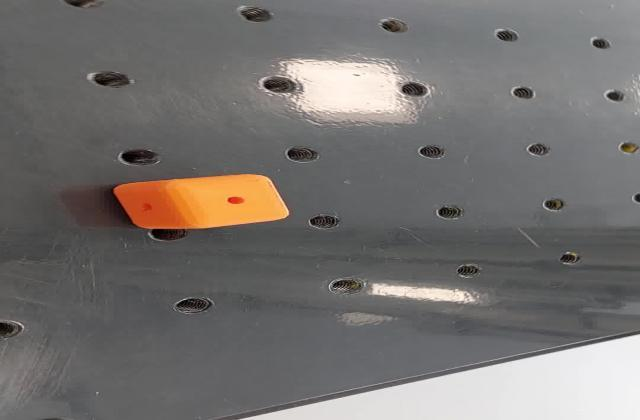cube: (105, 171, 299, 233)
